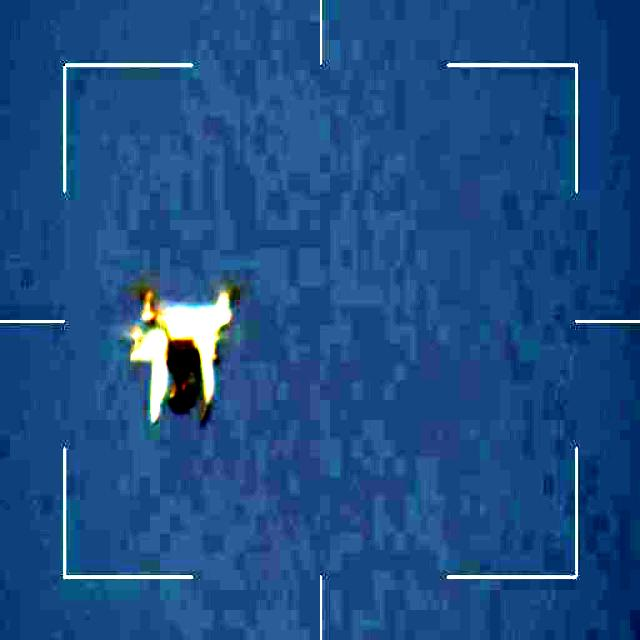bird: (100, 289, 244, 426)
